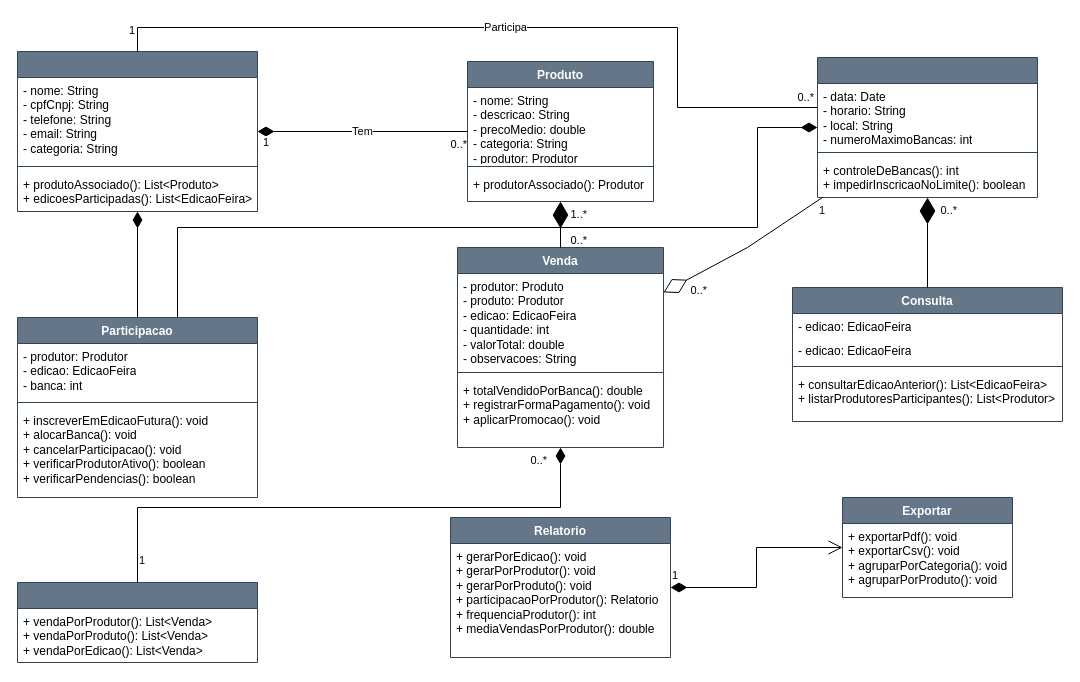
The diagram is 1080 pixels wide and 682 high, and some of its shapes have lost their labels. Each missing label, with the box of its shape:
EdicaoFeira: (816, 56, 1038, 198)
Historico: (16, 582, 258, 662)
Produtor: (16, 50, 258, 212)
